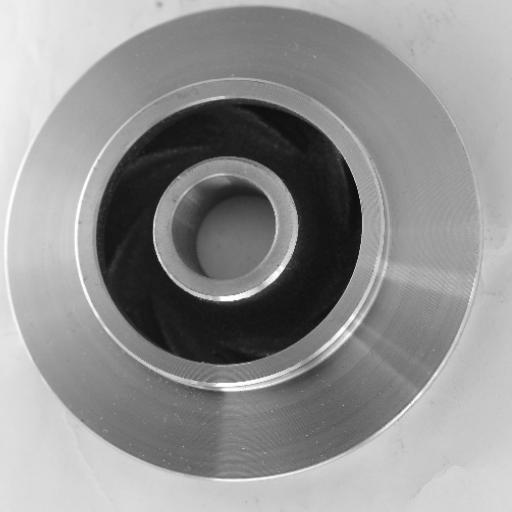polished_casting: (7, 4, 486, 479)
